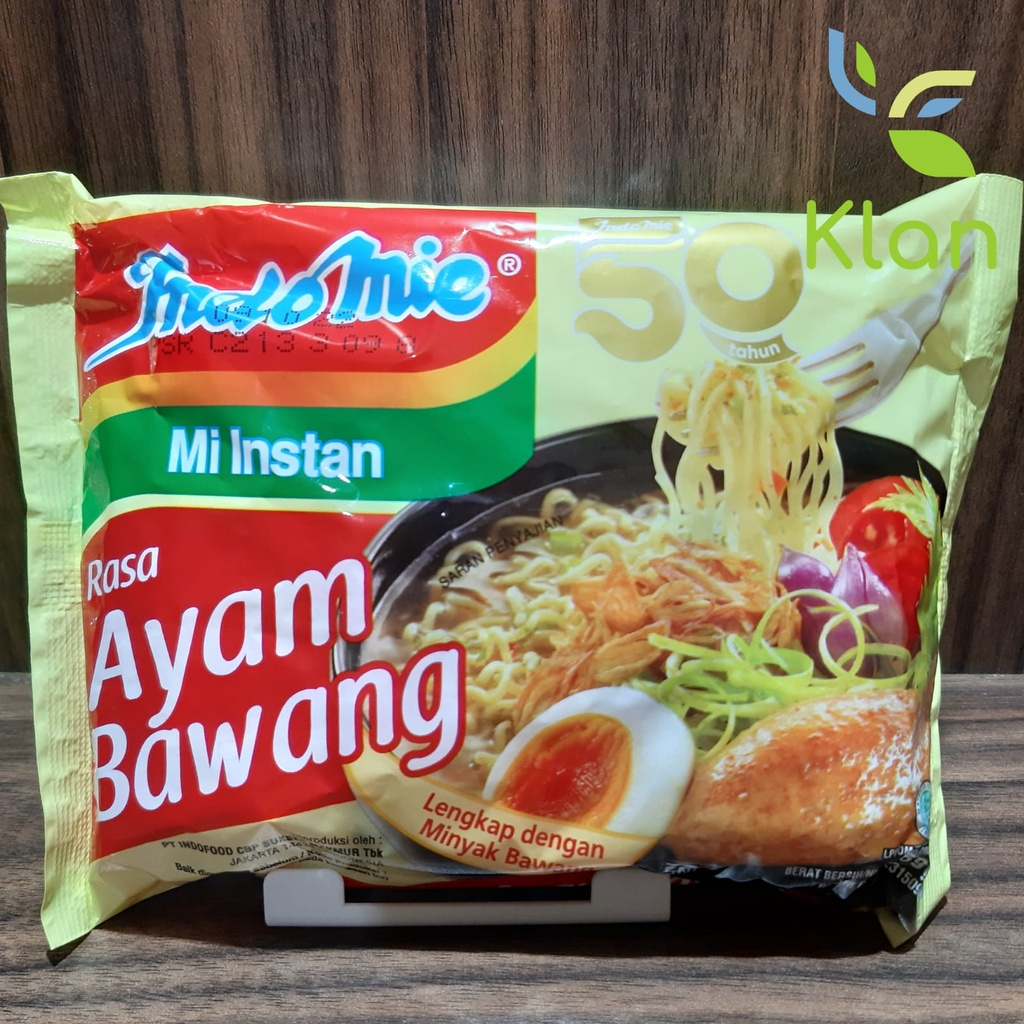Indomie Ayam Bawang (69g): (2, 166, 966, 947)
